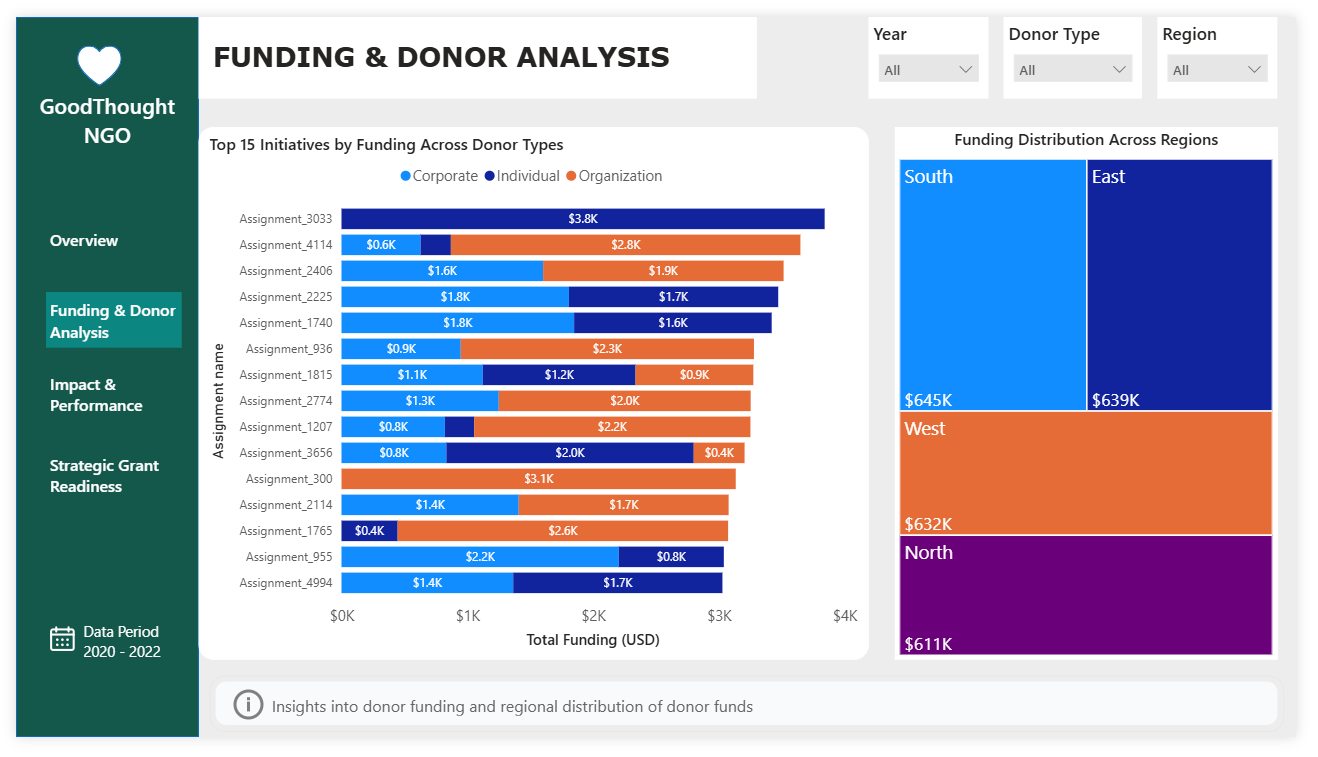

Layout of this report page (visuals, bound fields, positions):
{"tool":"powerbi","page":{"name":"Funding & Donor Analysis","canvas":[1280,720],"ordinal":1},"visuals":[{"type":"shape","box":[0,0,182.9,720],"z":0},{"type":"shape","box":[61.4,28.2,44.3,40],"z":1000},{"type":"textbox","box":[0,68.2,182.9,71.4],"z":2000},{"type":"textbox","box":[182.9,0,558.6,81.4],"z":3000},{"type":"slicer","fields":{"Values":["public donations.Year"]},"box":[852.9,0,120,81.4],"z":4000},{"type":"slicer","fields":{"Values":["public donors.donor_type"]},"box":[987.1,0,138.6,81.4],"z":5000},{"type":"slicer","fields":{"Values":["public assignments.region"]},"box":[1141.4,0,120,81.4],"z":6000},{"type":"actionButton","box":[30,194.3,130,57.1],"z":7000},{"type":"actionButton","box":[30,274.5,135.7,55.7],"z":8000},{"type":"actionButton","box":[30,351.7,130,51.4],"z":9000},{"type":"actionButton","box":[30,424.5,140,65.7],"z":10000},{"type":"textbox","box":[62.9,598.6,90,50],"z":11000},{"type":"image","box":[30,601.4,32.9,41.4],"z":12000},{"type":"shape","box":[194.3,658.6,1074.3,55.7],"z":13000},{"type":"actionButton","box":[212.9,667.1,528.6,40],"z":14000},{"type":"barChart","title":"Top 15 Initiatives by Funding Across Donor Types","fields":{"Category":["public assignments.assignment_name"],"Y":["public donations.Total Funding"],"Series":["public donors.donor_type"]},"box":[182.9,110,670,532.9],"z":15000},{"type":"treemap","title":"Funding Distribution Across Regions","fields":{"Values":["Sum(public donations.amount)"],"Group":["public assignments.region"]},"box":[878.6,110,382.9,532.9],"z":16000}]}

Visuals, with their boxes in screenshot pixels (x1, y1, x2, y2), scaled from the page's 1280x720 canvas onto the 1318x757 screenshot:
shape: (0, 0, 188, 756)
shape: (63, 30, 109, 72)
textbox: (0, 72, 188, 147)
textbox: (188, 0, 764, 86)
slicer - public donations.Year: (878, 0, 1002, 86)
slicer - public donors.donor_type: (1016, 0, 1159, 86)
slicer - public assignments.region: (1175, 0, 1299, 86)
actionButton: (31, 204, 165, 264)
actionButton: (31, 289, 171, 347)
actionButton: (31, 370, 165, 424)
actionButton: (31, 446, 175, 515)
textbox: (65, 629, 157, 682)
image: (31, 632, 65, 676)
shape: (200, 692, 1306, 751)
actionButton: (219, 701, 764, 743)
"Top 15 Initiatives by Funding Across Donor Types" barChart: (188, 116, 878, 676)
"Funding Distribution Across Regions" treemap: (905, 116, 1299, 676)
